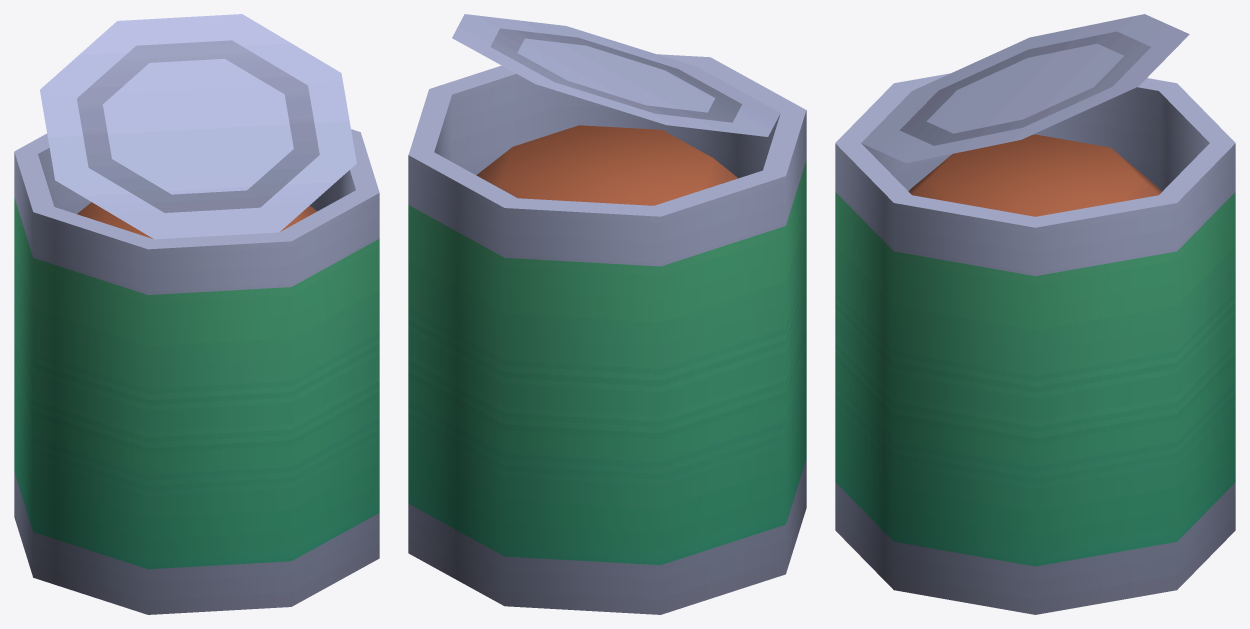
File: can-open.glb
3 views of the same model, side by side, from view 1: azimuth 30°, elevation 25°; view 2: azimuth 150°, elevation 25°; view 3: azimuth 270°, elevation 25° (orthographic). The views are drawn at different scales.
Visible parts, largest first — view 1: can-open; view 2: can-open; view 3: can-open.
Boxes of the visible parts, x1=… form: can-open: x1=14, y1=14, x2=379, y2=614; can-open: x1=408, y1=14, x2=806, y2=614; can-open: x1=835, y1=14, x2=1235, y2=614.
Size of the model in its own units: 0.3 by 0.4071 by 0.3.
Materials: 1 (1 with a texture image).
